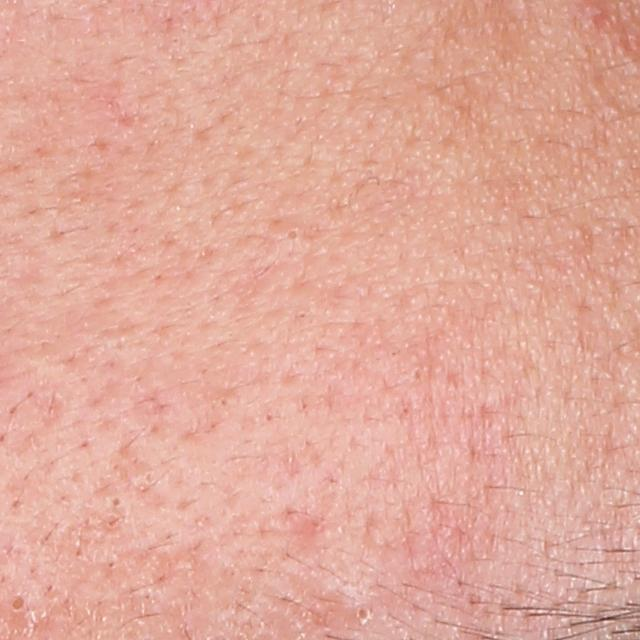comedo: (106, 493, 127, 512), (283, 227, 303, 243)
